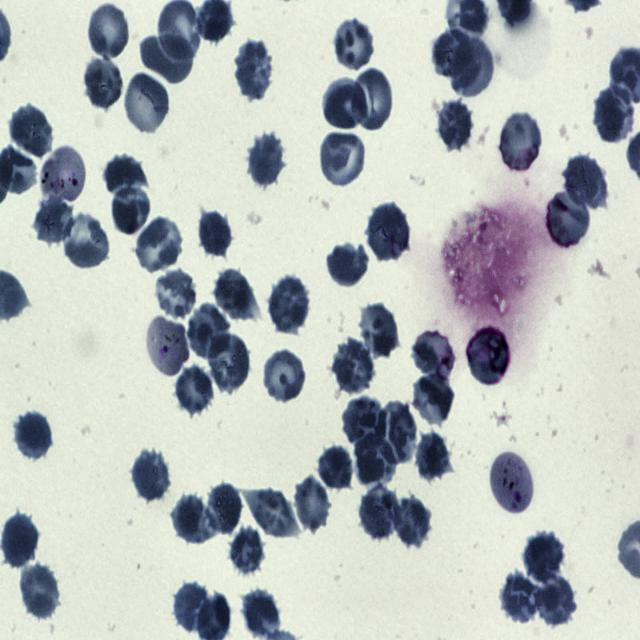red blood cell: (350, 64, 396, 134), (123, 71, 171, 136), (138, 32, 194, 86), (133, 215, 183, 274), (467, 323, 512, 388), (242, 489, 300, 539), (544, 189, 592, 248), (498, 109, 542, 173), (62, 212, 110, 270), (450, 37, 496, 97), (86, 1, 132, 60), (319, 130, 366, 187), (206, 333, 252, 391), (232, 39, 273, 104), (169, 494, 220, 546), (292, 472, 332, 537), (378, 401, 418, 465), (321, 77, 369, 130), (10, 103, 55, 159), (366, 203, 410, 260), (428, 29, 478, 79), (261, 348, 307, 402), (412, 371, 456, 427), (594, 82, 634, 143), (152, 267, 198, 320), (358, 483, 400, 541), (331, 18, 376, 72), (354, 433, 398, 488), (18, 563, 60, 620), (188, 303, 231, 358), (268, 276, 310, 332), (213, 268, 257, 321), (342, 396, 386, 449), (31, 192, 75, 245), (82, 56, 124, 111), (565, 154, 607, 209), (358, 303, 400, 358), (411, 329, 457, 379), (535, 576, 577, 630), (501, 571, 542, 626), (332, 341, 375, 392), (110, 182, 152, 234), (524, 531, 565, 584), (102, 153, 148, 200), (173, 364, 214, 416), (131, 448, 170, 502), (205, 481, 242, 536), (3, 512, 39, 568), (247, 132, 284, 186), (242, 587, 281, 638), (173, 581, 210, 634), (393, 496, 432, 546), (437, 98, 473, 152), (196, 208, 234, 259), (414, 430, 451, 481), (328, 242, 369, 288), (16, 412, 52, 462), (228, 526, 264, 574), (318, 446, 355, 492)
ring: (39, 144, 87, 207), (490, 451, 534, 516), (146, 316, 190, 379)
